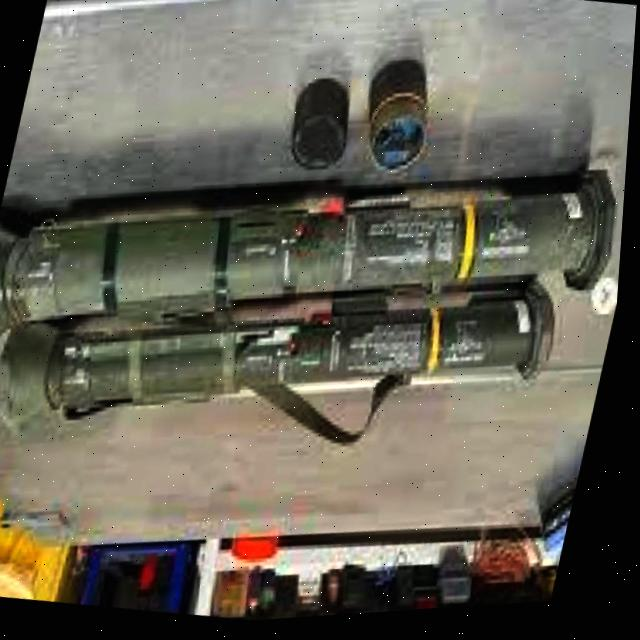rocket: (0, 94, 633, 525)
